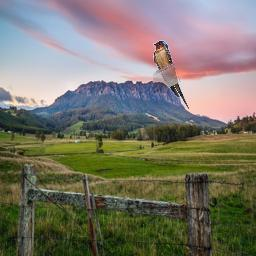Swallow: (153, 40, 189, 109)
